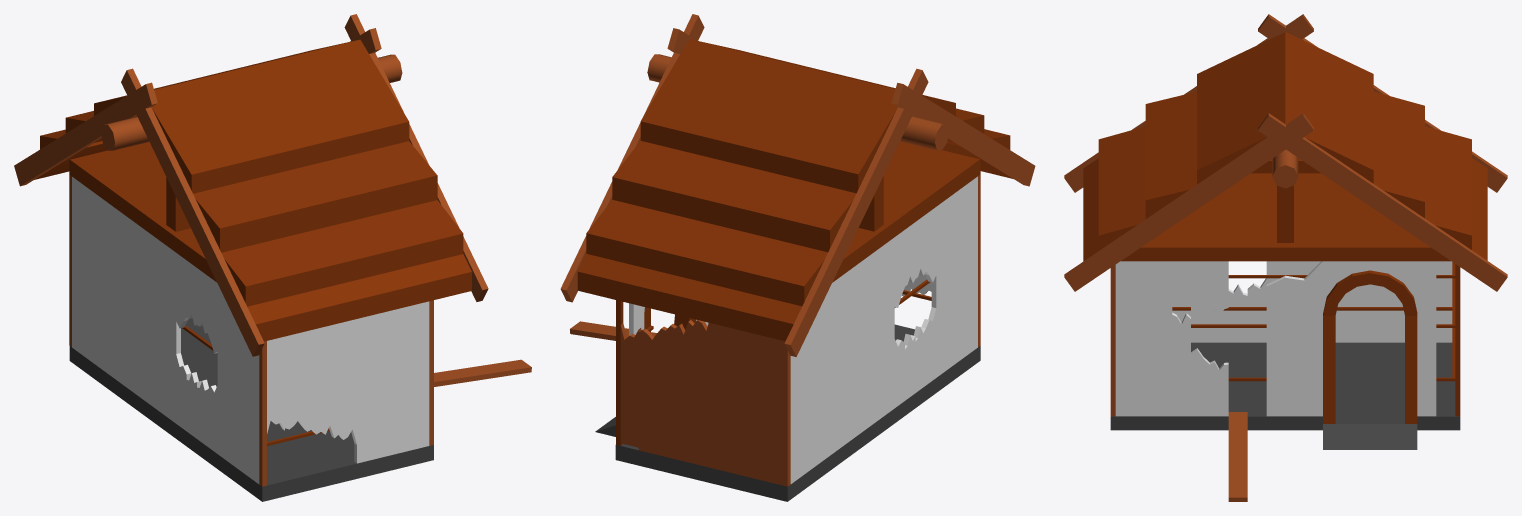
The model's file is Maison.FBX.
3 views of the same model, side by side, from view 1: azimuth 30°, elevation 25°; view 2: azimuth 150°, elevation 25°; view 3: azimuth 270°, elevation 25° (orthographic). The views are drawn at different scales.
Visible parts, largest first — view 1: Toit001, Sol001, Plafond001, Planche002, Planche001, Planche18, Planche21, Planche20, Planche19, Planche48, Planche15, Planche36 (+26 smaller); view 2: Toit001, Plafond001, Sol001, Planche001, Planche002, Planche26, Planche27, Planche29, Planche30, Planche28, Planche25, Planche24 (+26 smaller); view 3: Toit001, Plafond001, Sol001, Planche003, Planche004, Planche10, Planche16, Planche05, Planche07, Planche17, Planche08, Planche09 (+19 smaller).
Part boxes in pixels (left/top/right/bottom): Toit001: left=34, top=39, right=471, bottom=341; Sol001: left=69, top=318, right=433, bottom=501; Plafond001: left=69, top=142, right=216, bottom=282; Planche002: left=121, top=68, right=264, bottom=356; Planche001: left=14, top=82, right=157, bottom=186; Planche18: left=411, top=301, right=429, bottom=450; Planche21: left=354, top=314, right=374, bottom=463; Planche20: left=375, top=310, right=392, bottom=458; Planche19: left=393, top=306, right=410, bottom=454; Planche48: left=165, top=245, right=180, bottom=423; Planche15: left=338, top=319, right=356, bottom=444; Planche36: left=217, top=284, right=228, bottom=461; Toit001: left=577, top=39, right=1012, bottom=341; Plafond001: left=832, top=141, right=980, bottom=282; Sol001: left=595, top=324, right=980, bottom=501; Planche001: left=784, top=68, right=928, bottom=356; Planche002: left=891, top=82, right=1035, bottom=186; Planche26: left=692, top=320, right=710, bottom=467; Planche27: left=765, top=336, right=782, bottom=485; Planche29: left=729, top=327, right=746, bottom=476; Planche30: left=711, top=323, right=728, bottom=472; Planche28: left=747, top=332, right=764, bottom=480; Planche25: left=674, top=320, right=694, bottom=463; Planche24: left=656, top=324, right=677, bottom=458; Toit001: left=1083, top=32, right=1487, bottom=261; Plafond001: left=1121, top=173, right=1450, bottom=261; Sol001: left=1110, top=342, right=1460, bottom=449; Planche003: left=1258, top=113, right=1507, bottom=291; Planche004: left=1064, top=113, right=1313, bottom=291; Planche10: left=1323, top=270, right=1417, bottom=423; Planche16: left=1134, top=261, right=1153, bottom=416; Planche05: left=1153, top=261, right=1172, bottom=416; Planche07: left=1417, top=261, right=1436, bottom=416; Planche17: left=1115, top=261, right=1134, bottom=416; Planche08: left=1304, top=261, right=1322, bottom=416; Planche09: left=1285, top=275, right=1304, bottom=416.
Bounding box in the file's own units: 410 × 361 × 443.
